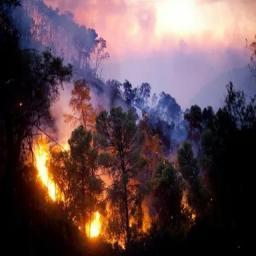Low smoke: (28, 0, 255, 99)
Medium fire: (25, 114, 162, 248)
